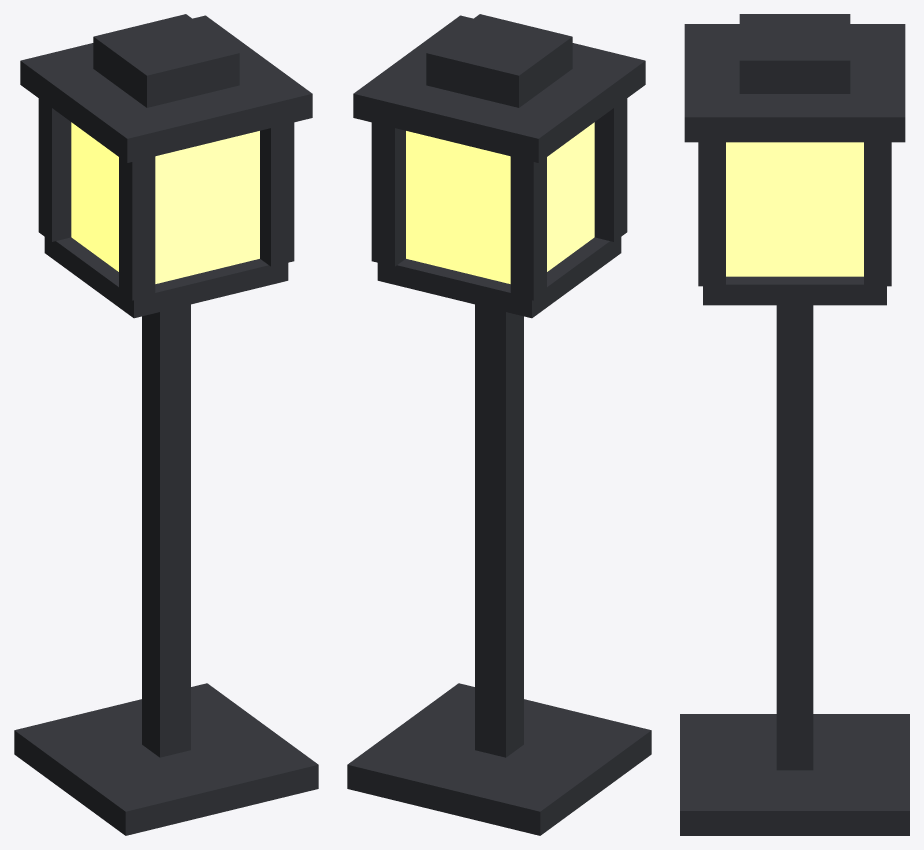
Rendered from ncb-lamp-lantern.glb.
The picture shows the model from 3 angles, left to right: view 1: azimuth 30°, elevation 25°; view 2: azimuth 150°, elevation 25°; view 3: azimuth 270°, elevation 25°; orthographic projection. The views are drawn at different scales.
Parts seen in each view (by area): view 1: box-prop; view 2: box-prop; view 3: box-prop.
Boxes of the visible parts, x1=… form: box-prop: x1=14, y1=14, x2=318, y2=835; box-prop: x1=347, y1=14, x2=651, y2=835; box-prop: x1=680, y1=14, x2=909, y2=835.
Size of the model in its own units: 0.5 by 1.8 by 0.5.
